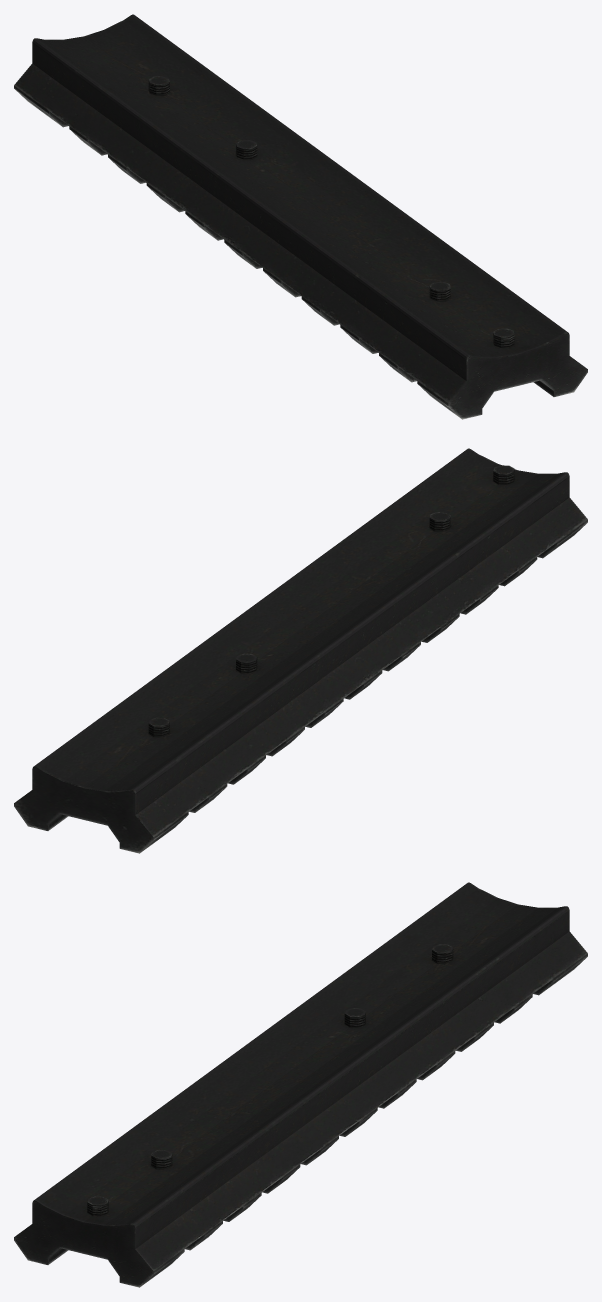
3 views of the same model, one above another, from view 1: azimuth 30°, elevation 25°; view 2: azimuth 150°, elevation 25°; view 3: azimuth 330°, elevation 25° (orthographic).
Parts seen in each view (by area): view 1: TW_625ed7c64d9b6612df732146_PZ_Import; view 2: TW_625ed7c64d9b6612df732146_PZ_Import; view 3: TW_625ed7c64d9b6612df732146_PZ_Import.
Part boxes in pixels (x1,y1,x2,y2): TW_625ed7c64d9b6612df732146_PZ_Import: [14, 14, 587, 419]; TW_625ed7c64d9b6612df732146_PZ_Import: [14, 448, 587, 853]; TW_625ed7c64d9b6612df732146_PZ_Import: [14, 882, 587, 1287].
Size of the model in its own units: 0.0122 by 0.0658 by 0.00524.
1 material, 1 textured.
